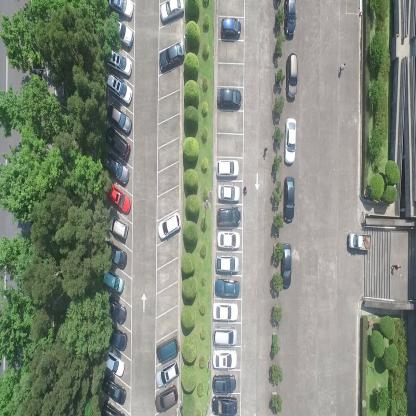car: (101, 150, 130, 186), (103, 124, 130, 160), (106, 72, 133, 107), (158, 40, 184, 73), (106, 182, 131, 216), (106, 103, 132, 135), (105, 49, 132, 79), (157, 210, 182, 242), (110, 18, 134, 50), (154, 384, 179, 414), (102, 374, 126, 405), (154, 361, 181, 388), (156, 334, 179, 364), (104, 240, 127, 270), (103, 348, 125, 378), (106, 294, 127, 325), (101, 268, 125, 295), (106, 324, 128, 352), (107, 213, 128, 242), (284, 116, 296, 166), (212, 325, 238, 348), (158, 0, 184, 23), (283, 176, 295, 224), (216, 88, 242, 110), (286, 51, 297, 102), (280, 242, 292, 288), (213, 278, 240, 298), (211, 395, 238, 415), (347, 231, 371, 253), (212, 301, 238, 321), (211, 374, 237, 394), (108, 0, 134, 20), (283, 0, 296, 39), (217, 230, 242, 250), (214, 254, 239, 274), (212, 350, 237, 370), (216, 206, 241, 225), (220, 16, 240, 39), (216, 158, 239, 178), (217, 183, 241, 202), (101, 398, 124, 416)
